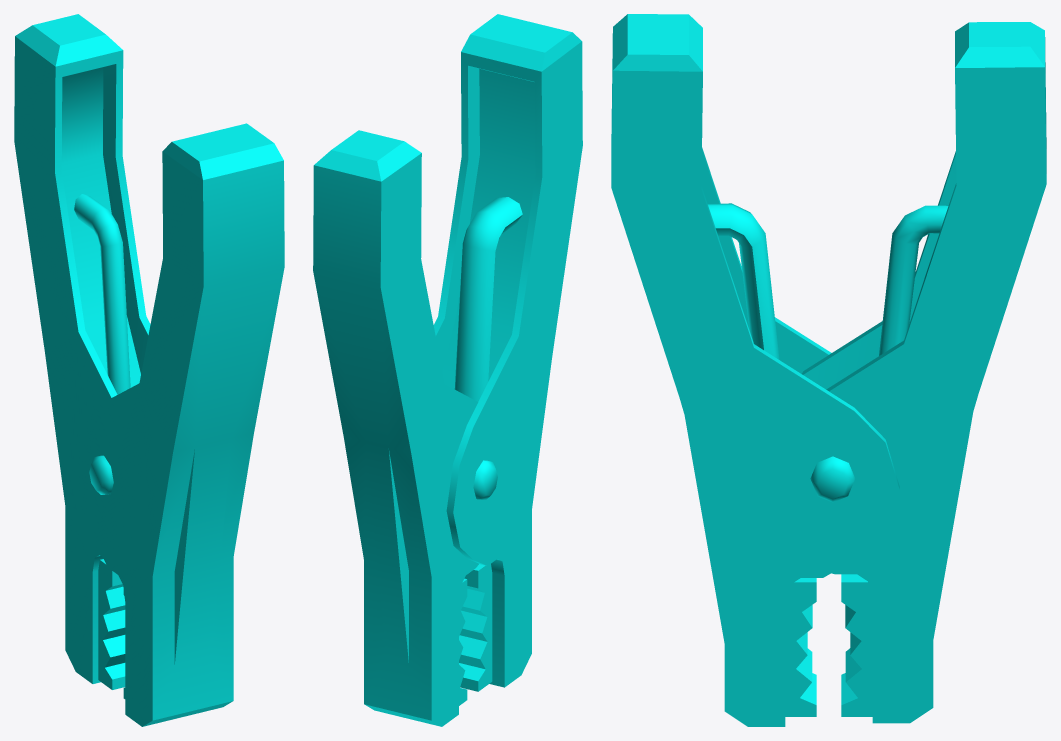
File: GroundingClip.fbx
3 views of the same model, side by side, from view 1: azimuth 30°, elevation 25°; view 2: azimuth 150°, elevation 25°; view 3: azimuth 270°, elevation 25° (orthographic). The views are drawn at different scales.
Visible parts, largest first — view 1: Grounding Clip 2, Grounding Clip 1; view 2: Grounding Clip 2, Grounding Clip 1; view 3: Grounding Clip 2, Grounding Clip 1.
Boxes of the visible parts, bbox=[...] form: Grounding Clip 2: bbox=[73, 123, 284, 726]; Grounding Clip 1: bbox=[14, 14, 150, 689]; Grounding Clip 2: bbox=[433, 14, 582, 691]; Grounding Clip 1: bbox=[313, 130, 478, 726]; Grounding Clip 2: bbox=[611, 14, 899, 726]; Grounding Clip 1: bbox=[802, 22, 1046, 723].
Bounding box in the file's own units: 1.79 × 10.48 × 6.17.
